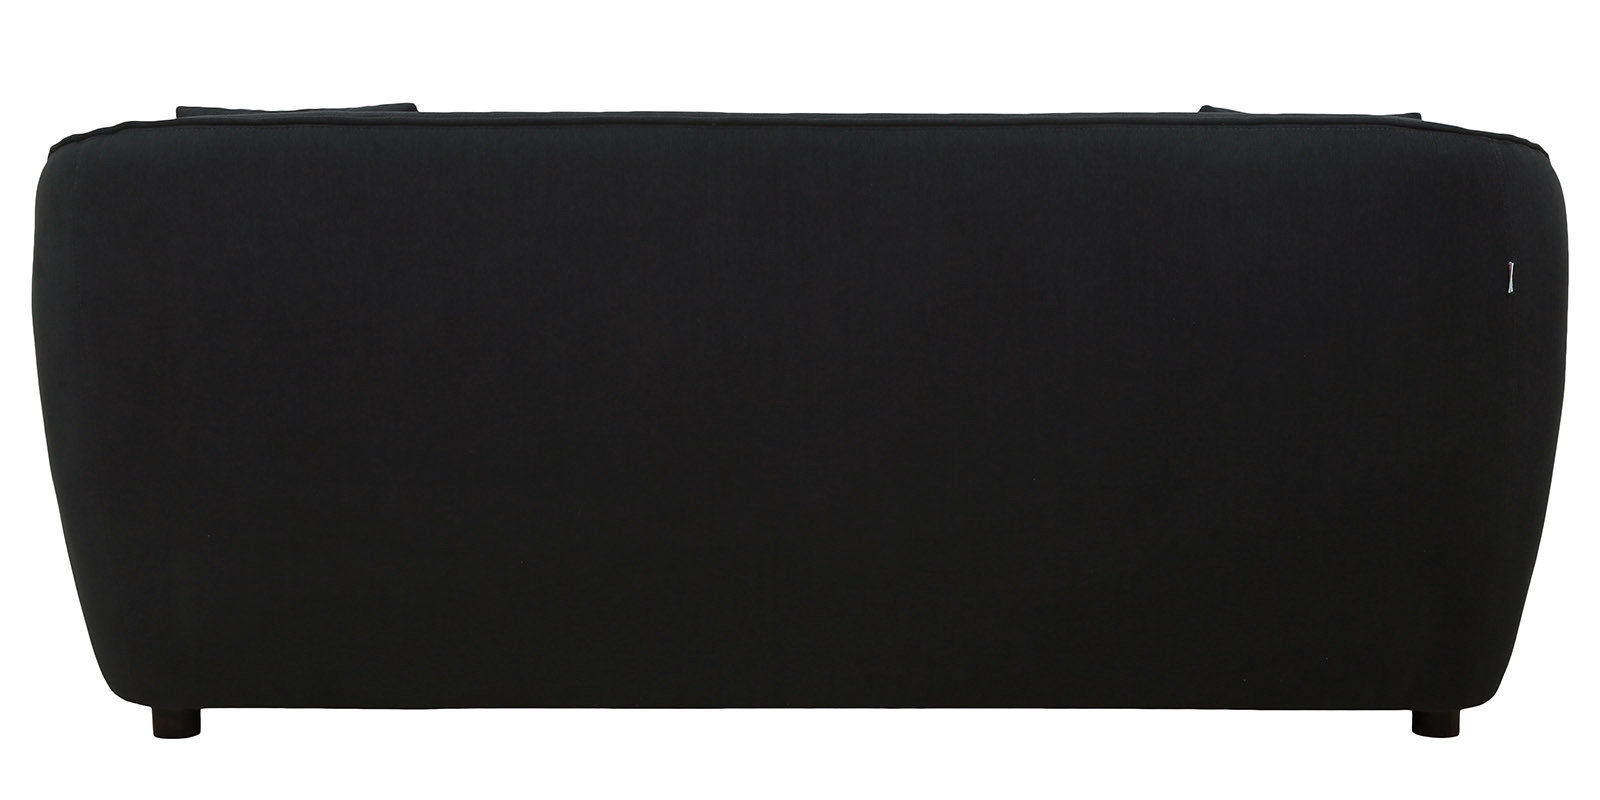Mamore Three Seater Sofa in Charcoal Grey Color by CasaCraft: (31, 100, 1570, 737)
